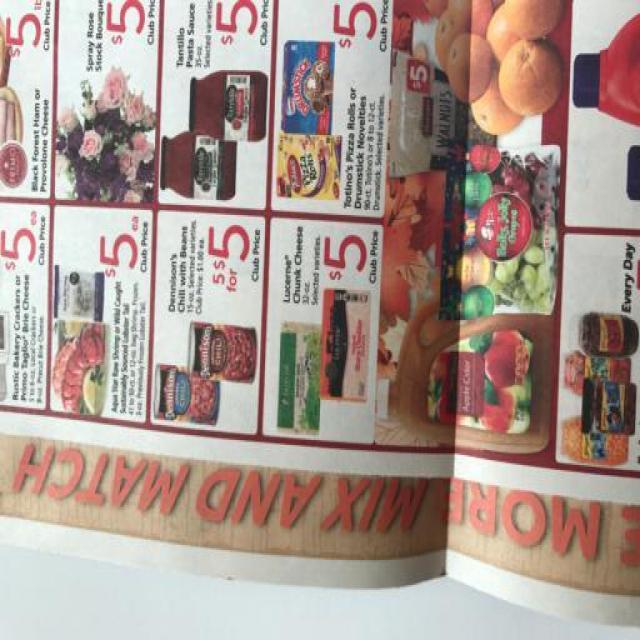paper: (6, 1, 640, 640)
